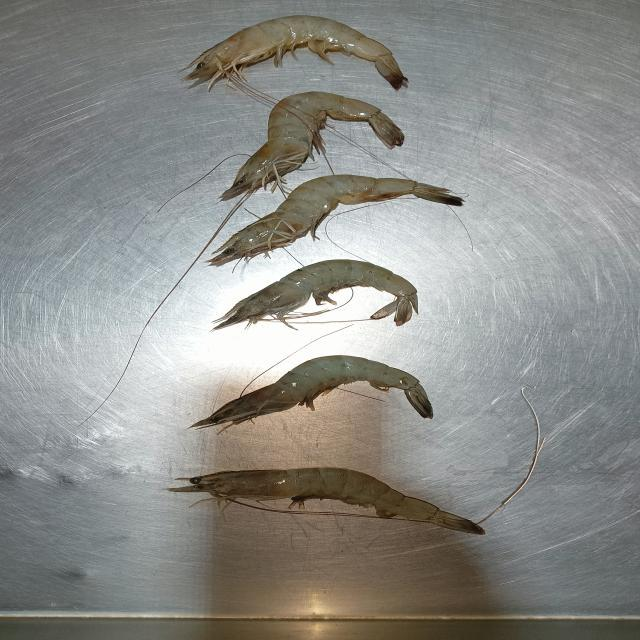shrimp: (209, 175, 463, 263), (170, 468, 483, 533), (222, 92, 403, 199), (194, 355, 432, 426), (185, 16, 407, 88), (216, 260, 417, 327)
